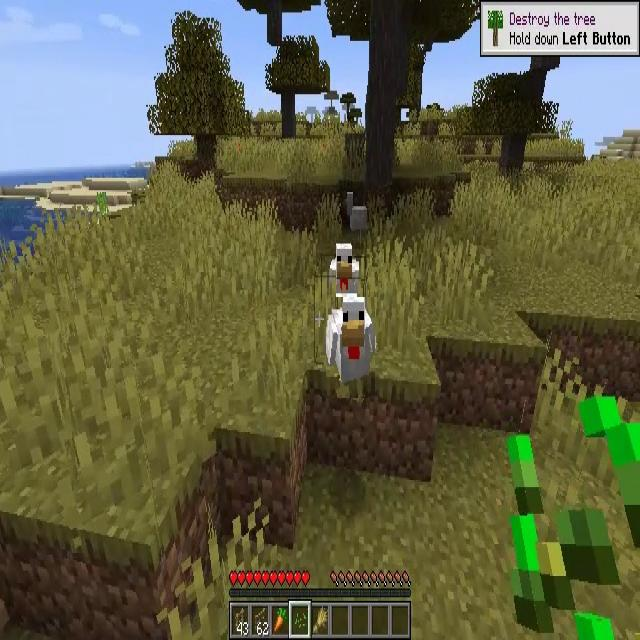duck: (326, 297, 375, 398), (329, 244, 360, 296), (343, 192, 368, 243)
